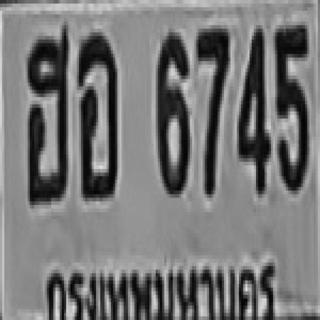A43: (77, 29, 115, 198)
A44: (26, 27, 68, 200)
N04: (237, 25, 269, 190)
N05: (273, 22, 307, 190)
N06: (156, 29, 188, 194)
N07: (194, 27, 228, 192), (194, 25, 228, 176), (194, 25, 228, 140)
P04: (42, 255, 282, 320)
